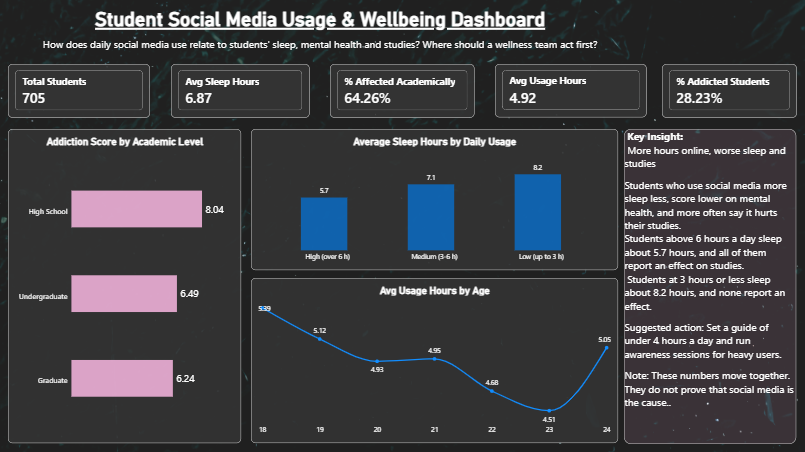

What the dashboard file says about the page in this screenshot:
{"tool":"powerbi","page":{"name":"Executive Overview","canvas":[1920,1080],"ordinal":0},"visuals":[{"type":"cardVisual","fields":{"Data":["Student_Details.Total Students"]},"box":[21.3,155.2,338,127.6],"z":0},{"type":"cardVisual","fields":{"Data":["Platform_Details.Avg Usage Hours"]},"box":[1179.9,155.2,361.5,126.9],"z":1000},{"type":"cardVisual","fields":{"Data":["Platform_Details.% Affected Academically"]},"box":[788.7,155.2,344.4,127.6],"z":2000},{"type":"cardVisual","fields":{"Data":["Student_Details.Avg Sleep Hours"]},"box":[410.3,155.2,329.5,127.6],"z":3000},{"type":"barChart","title":"Addiction Score by Academic Level","fields":{"Category":["Student_Details.Academic_Level"],"Y":["Avg(Student_Details.Addicted_Score)"]},"box":[21.3,310.4,554.9,748.3],"z":4000},{"type":"lineChart","title":"Avg Usage Hours by Age","fields":{"Category":["Student_Details.Age"],"Y":["Platform_Details.Avg Usage Hours"]},"box":[599.5,665.4,873.8,393.3],"z":5000},{"type":"clusteredColumnChart","title":"Average Sleep Hours by Daily Usage","fields":{"Category":["Platform_Details.Usage Band"],"Y":["Student_Details.Avg Sleep Hours"]},"box":[599.5,310.4,873.8,335.9],"z":6000},{"type":"textbox","title":"Student Social Media Usage & Wellbeing Dashboard","box":[102,21.3,1324.5,119.1],"z":7000},{"type":"textbox","box":[1488.2,310.4,410.3,750.5],"z":8000},{"type":"cardVisual","fields":{"Data":["Student_Details.% Addicted Students"]},"box":[1577.5,155.2,321,127.6],"z":8001}]}

Visuals, with their boxes in screenshot pixels (x1, y1, x2, y2), scaled from the page's 1920x1080 canvas onto the 805x452 screenshot:
cardVisual - Student_Details.Total Students: [left=9, top=65, right=151, bottom=118]
cardVisual - Platform_Details.Avg Usage Hours: [left=495, top=65, right=646, bottom=118]
cardVisual - Platform_Details.% Affected Academically: [left=331, top=65, right=475, bottom=118]
cardVisual - Student_Details.Avg Sleep Hours: [left=172, top=65, right=310, bottom=118]
"Addiction Score by Academic Level" barChart: [left=9, top=130, right=242, bottom=443]
"Avg Usage Hours by Age" lineChart: [left=251, top=278, right=618, bottom=443]
"Average Sleep Hours by Daily Usage" clusteredColumnChart: [left=251, top=130, right=618, bottom=270]
"Student Social Media Usage & Wellbeing Dashboard" textbox: [left=43, top=9, right=598, bottom=59]
textbox: [left=624, top=130, right=796, bottom=444]
cardVisual - Student_Details.% Addicted Students: [left=661, top=65, right=796, bottom=118]
